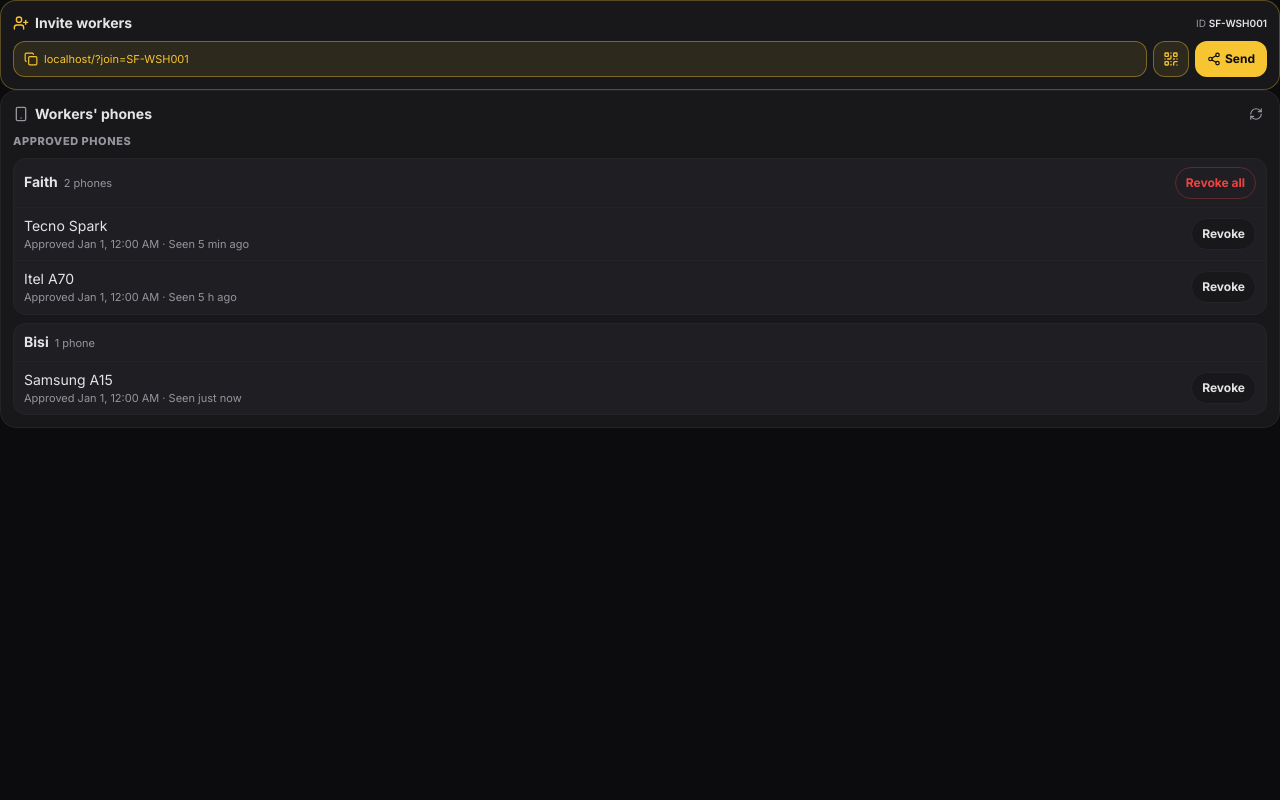
it: approved phones, under each worker › asks before taking one phone back, then takes it back
This screenshot has width=1280, height=800.
Later steps or results of the test are not shown.
Expected: the text "Samsung A15" is shown, [24, 370, 113, 388]
Click the button "Revoke" in the row of "Seen just now". click: x=1224, y=388
box: [1191, 372, 1256, 404]
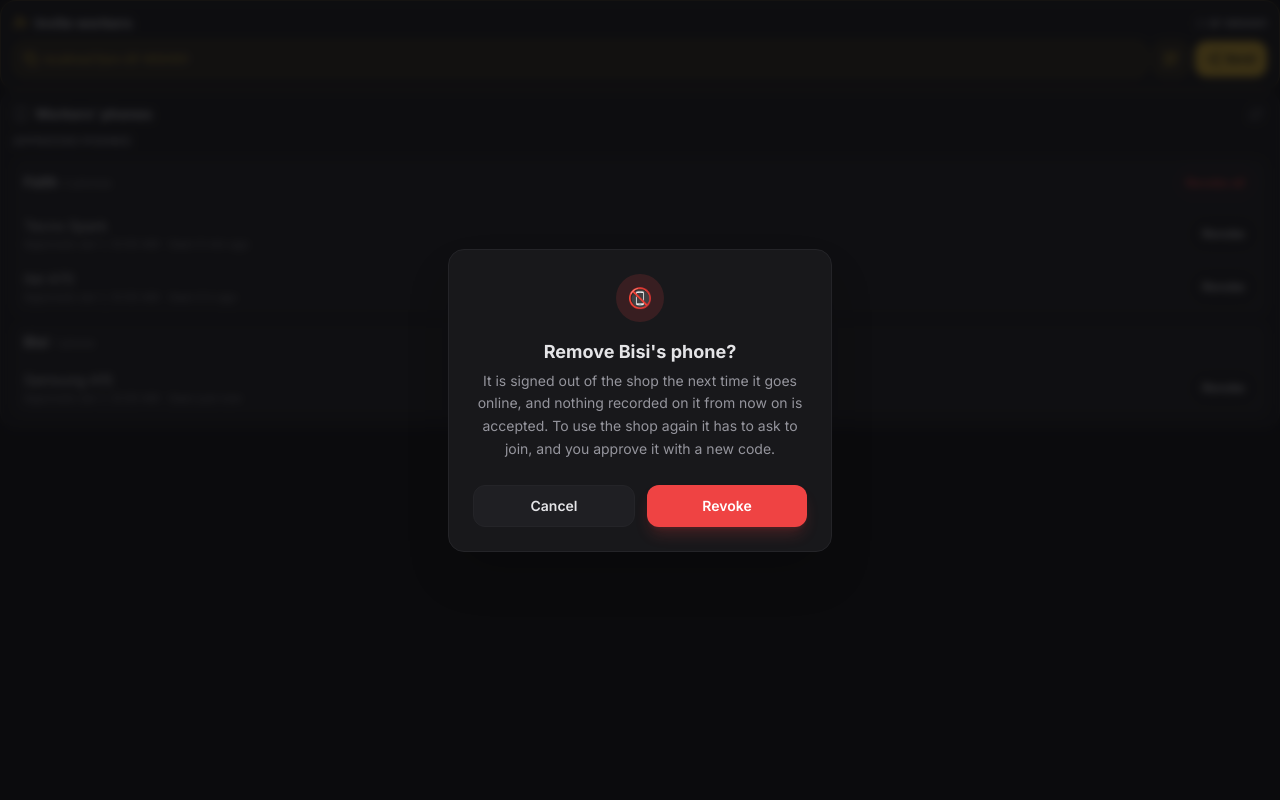
Now the heading "Remove Bisi's phone?" is shown, box [544, 340, 736, 362]
